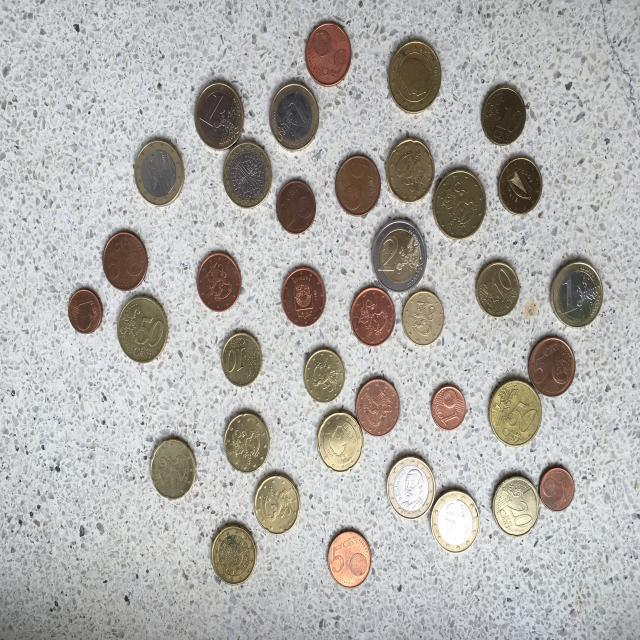10c: (496, 152, 546, 216), (478, 85, 528, 147), (473, 259, 522, 320), (401, 288, 449, 348), (300, 348, 350, 402), (220, 330, 264, 388)
1c: (64, 286, 105, 338), (538, 464, 578, 514), (430, 383, 468, 431)
1e: (192, 80, 246, 153), (131, 138, 188, 206), (267, 82, 322, 152), (550, 259, 606, 327), (222, 141, 274, 210), (386, 454, 436, 521), (431, 488, 480, 554)
20c: (148, 434, 198, 502), (386, 136, 436, 202), (252, 473, 303, 537), (492, 475, 542, 540), (210, 524, 262, 586), (223, 412, 272, 476), (316, 410, 364, 472)
2c: (275, 178, 318, 236)
50c: (386, 38, 444, 114), (431, 167, 488, 240), (486, 377, 544, 447), (115, 294, 171, 364)
5c: (303, 19, 357, 88), (196, 248, 244, 314), (348, 285, 398, 347), (528, 335, 576, 398), (335, 154, 382, 218), (101, 231, 151, 291), (325, 527, 373, 589), (354, 377, 402, 437), (281, 268, 328, 328)
